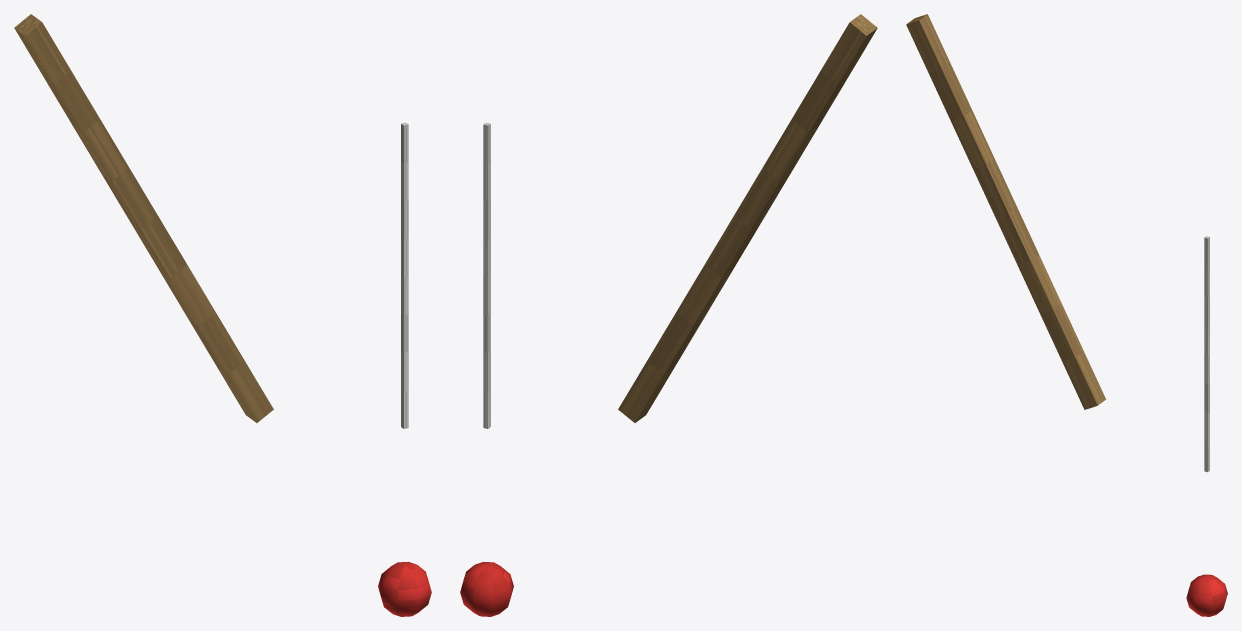
The model's file is cana.glb.
3 renders of one model, left to right at view 1: azimuth 30°, elevation 25°; view 2: azimuth 150°, elevation 25°; view 3: azimuth 330°, elevation 25°, orthographic. The views are drawn at different scales.
Parts seen in each view (by area): view 1: cana; view 2: cana; view 3: cana.
Boxes of the visible parts, x1,y1,x2,y2 form: cana: (14, 14, 431, 616); cana: (460, 14, 877, 616); cana: (906, 14, 1227, 616).
Bounding box in the file's own units: 0.847 × 1.36 × 0.1.
3 materials, 3 textured.
